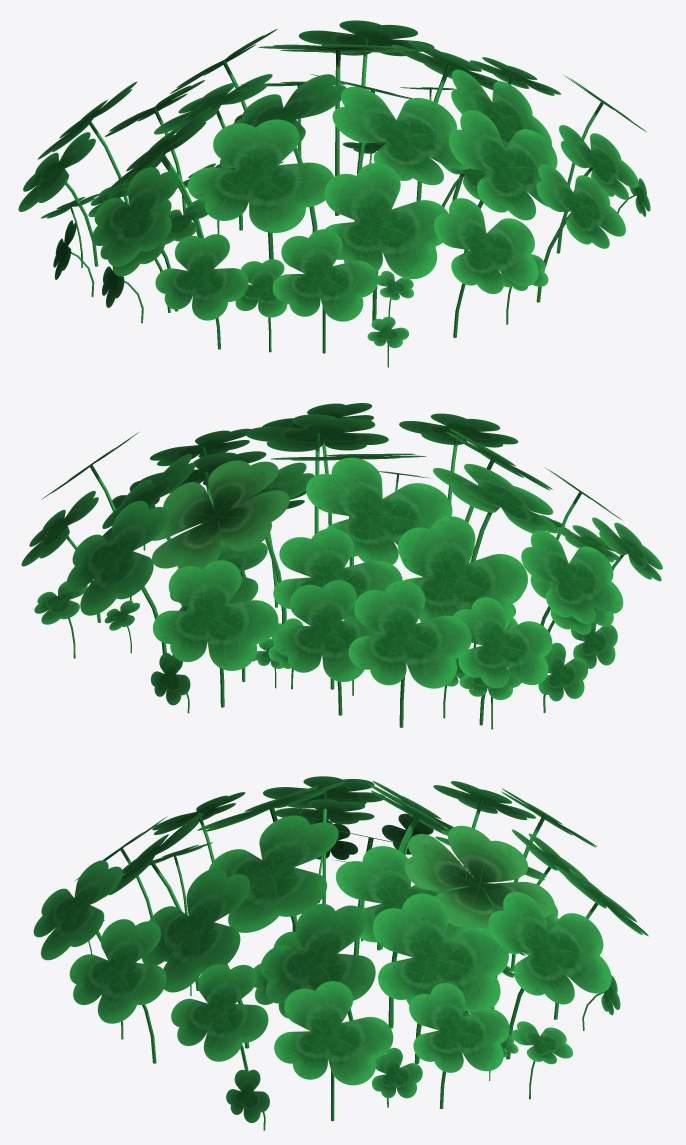
File: Lucky Clover.glb
The picture shows the model from 3 angles, top to bottom: view 1: azimuth 30°, elevation 25°; view 2: azimuth 150°, elevation 25°; view 3: azimuth 270°, elevation 25°; orthographic projection. The views are drawn at different scales.
Parts seen in each view (by area): view 1: pPlane53; view 2: pPlane53; view 3: pPlane53.
Part boxes in pixels (<box>): pPlane53: <box>18,20,650,367</box>; pPlane53: <box>21,403,662,729</box>; pPlane53: <box>33,776,648,1130</box>.
Bounding box in the file's own units: 0.067 × 0.0212 × 0.0643.
Materials: 2 (2 with a texture image).
